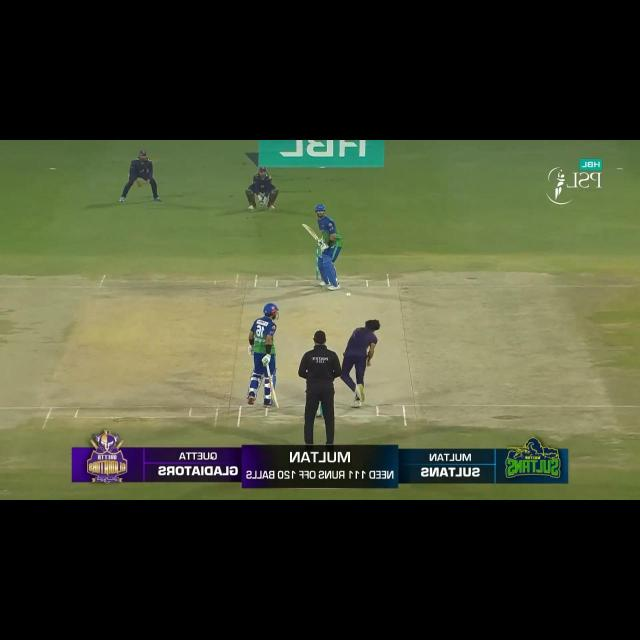bat: (300, 221, 319, 240), (270, 383, 280, 410)
toe: (273, 401, 280, 409), (301, 223, 308, 229)
